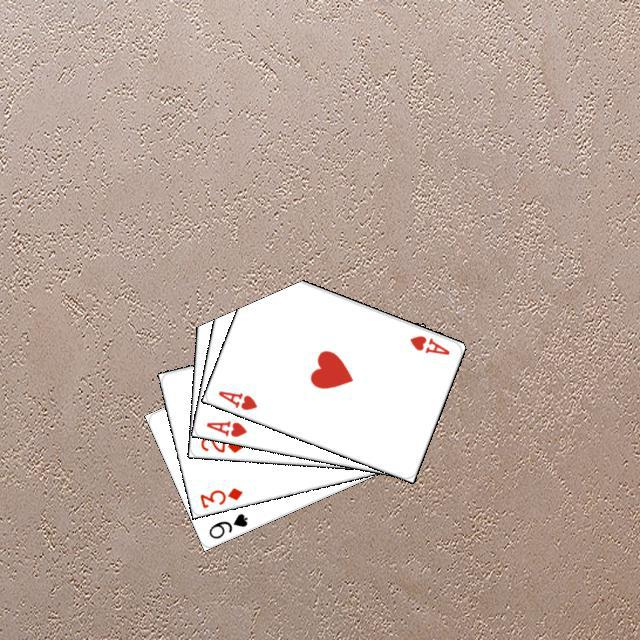2d: (196, 432, 244, 455)
3d: (195, 483, 244, 510)
9s: (204, 508, 249, 541)
Ah: (405, 330, 451, 357), (213, 386, 259, 412), (201, 416, 249, 439)
